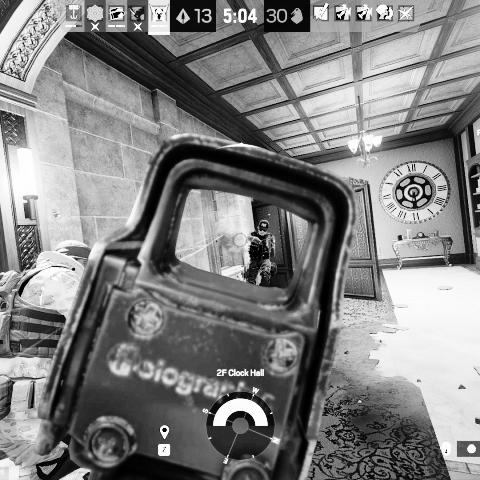Character: (0, 238, 93, 480), (244, 218, 279, 286)
Friend_label: (35, 208, 77, 232)
Head: (54, 240, 91, 262), (258, 220, 270, 236)
